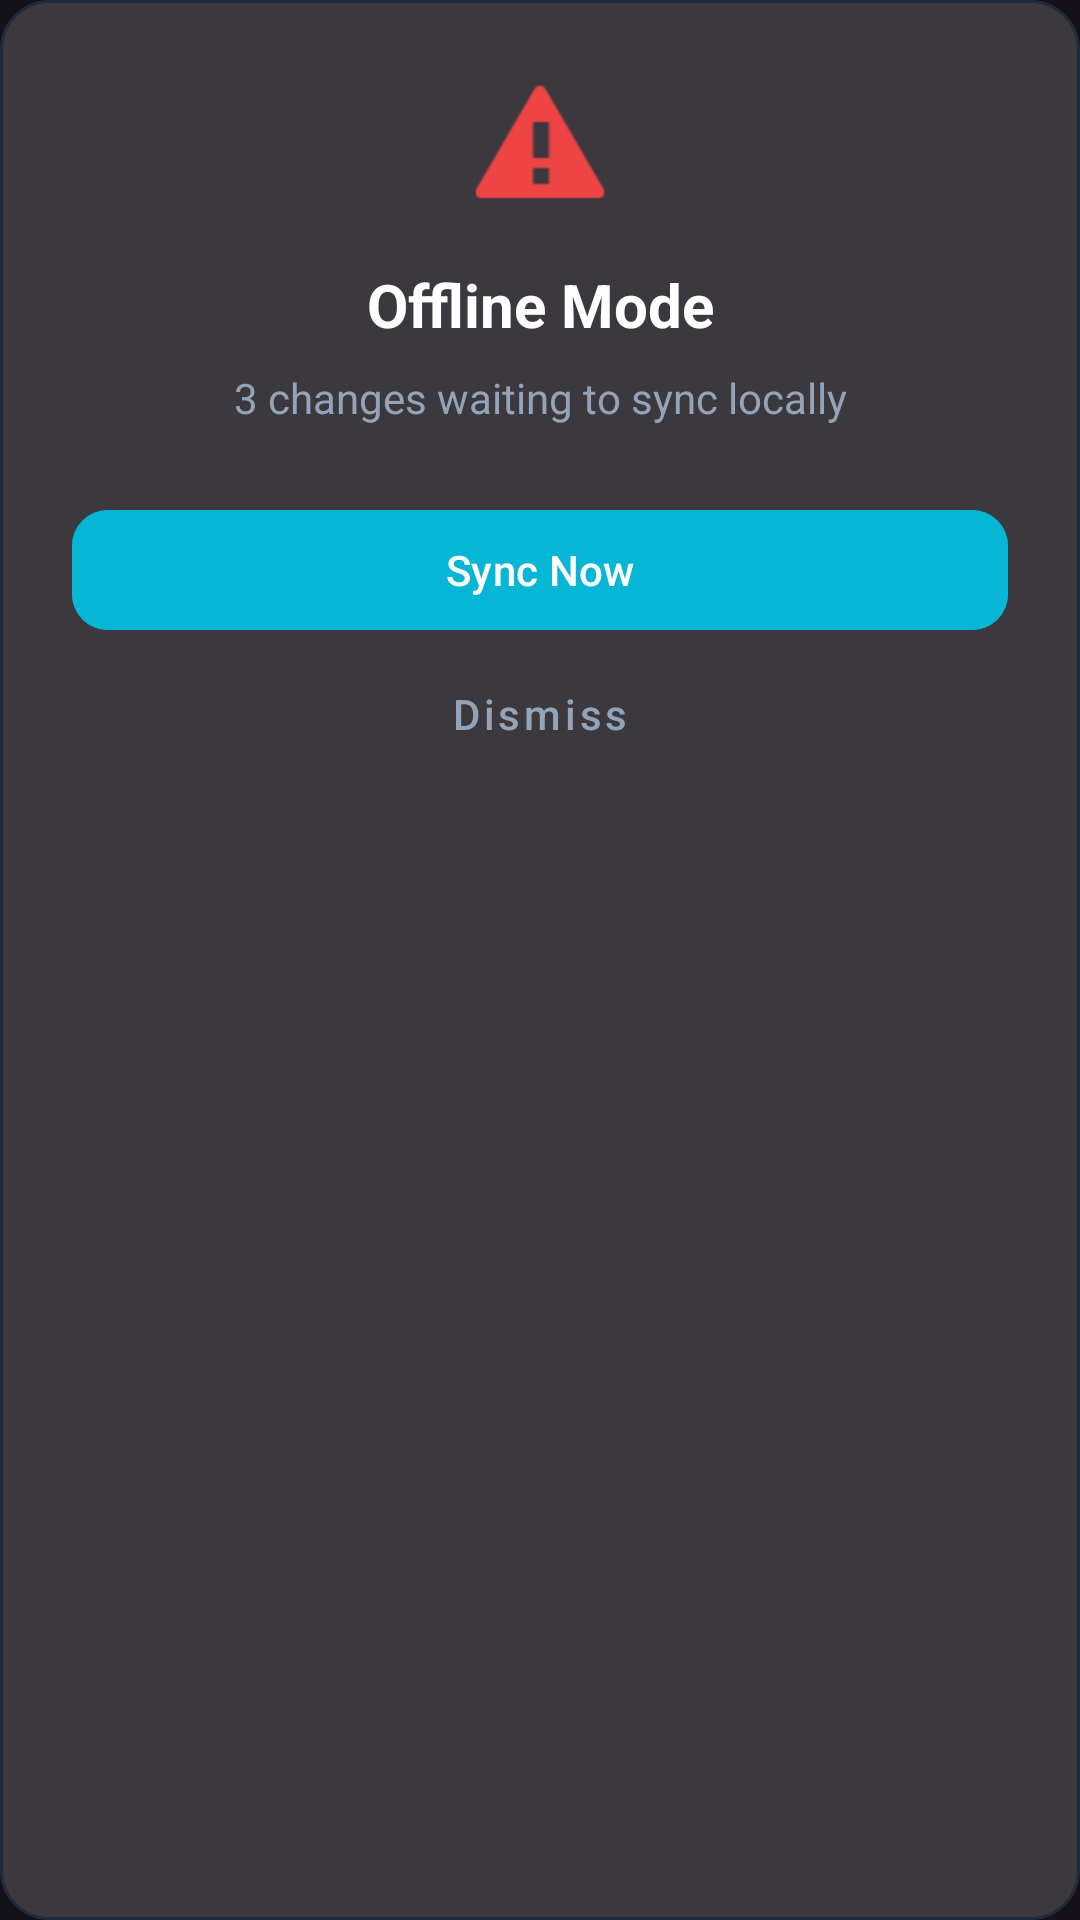

Icons on this 1080×1920 Android screen, each with the point to tap as (x=x, y=y):
error: (x=540, y=142)
